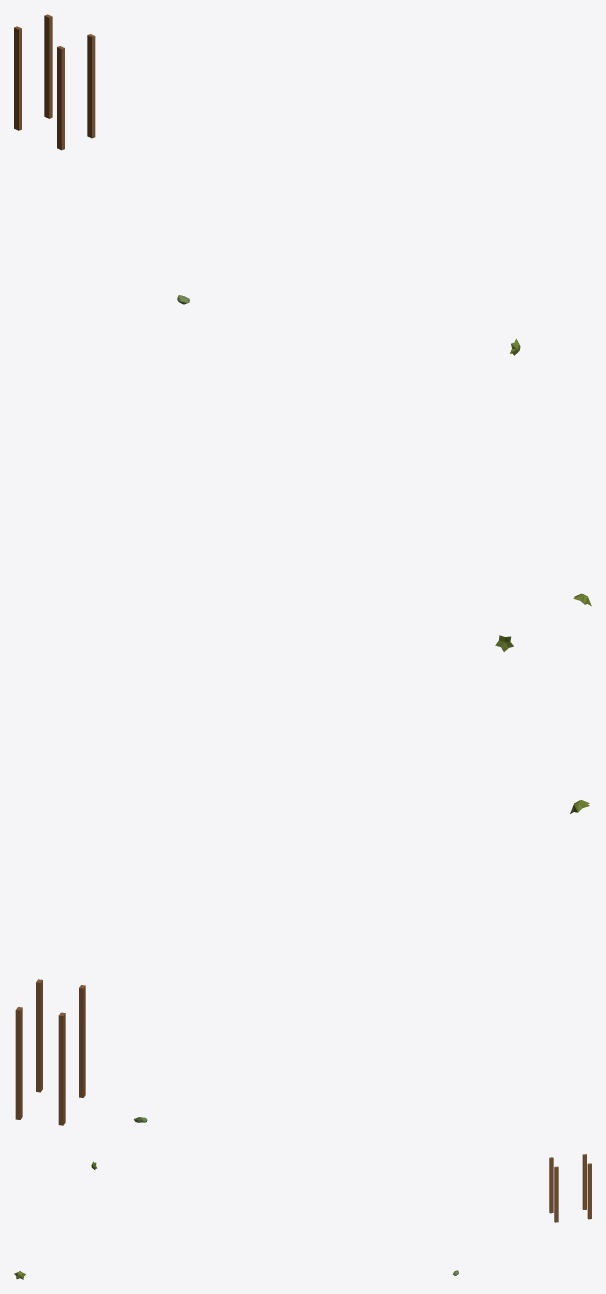
3 views of the same model, one above another, from view 1: azimuth 30°, elevation 25°; view 2: azimuth 150°, elevation 25°; view 3: azimuth 270°, elevation 25° (orthographic). The views are drawn at different scales.
Parts seen in each view (by area): view 1: Box578_brown_0; view 2: Box578_brown_0; view 3: Box578_brown_0.
Part boxes in pixels (x1,y1,x2,y2): Box578_brown_0: (14, 14, 95, 150); Box578_brown_0: (15, 979, 85, 1125); Box578_brown_0: (549, 1154, 591, 1222).
Bounding box in the file's own units: 356 × 1331 × 5980.
